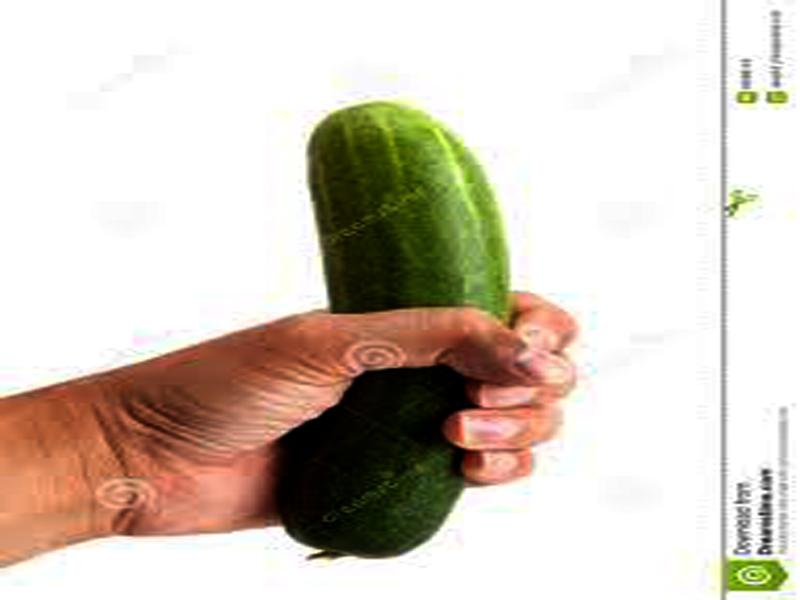Cucumber: (282, 101, 514, 554)
